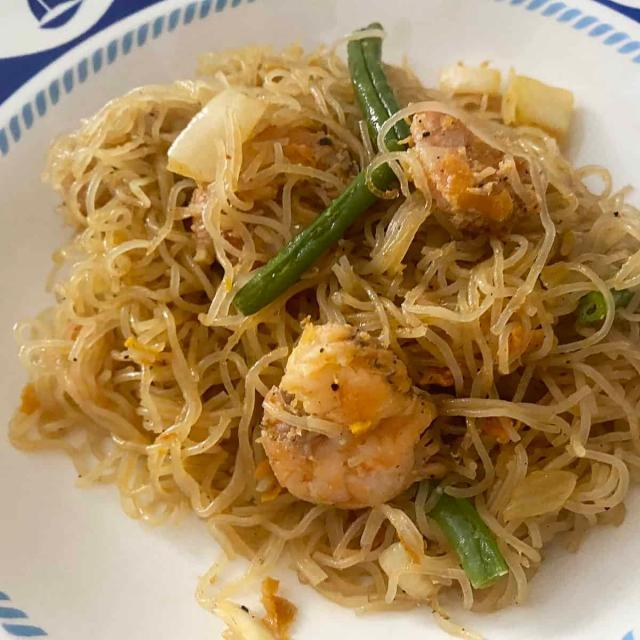pancit bihon: (17, 24, 640, 611)
